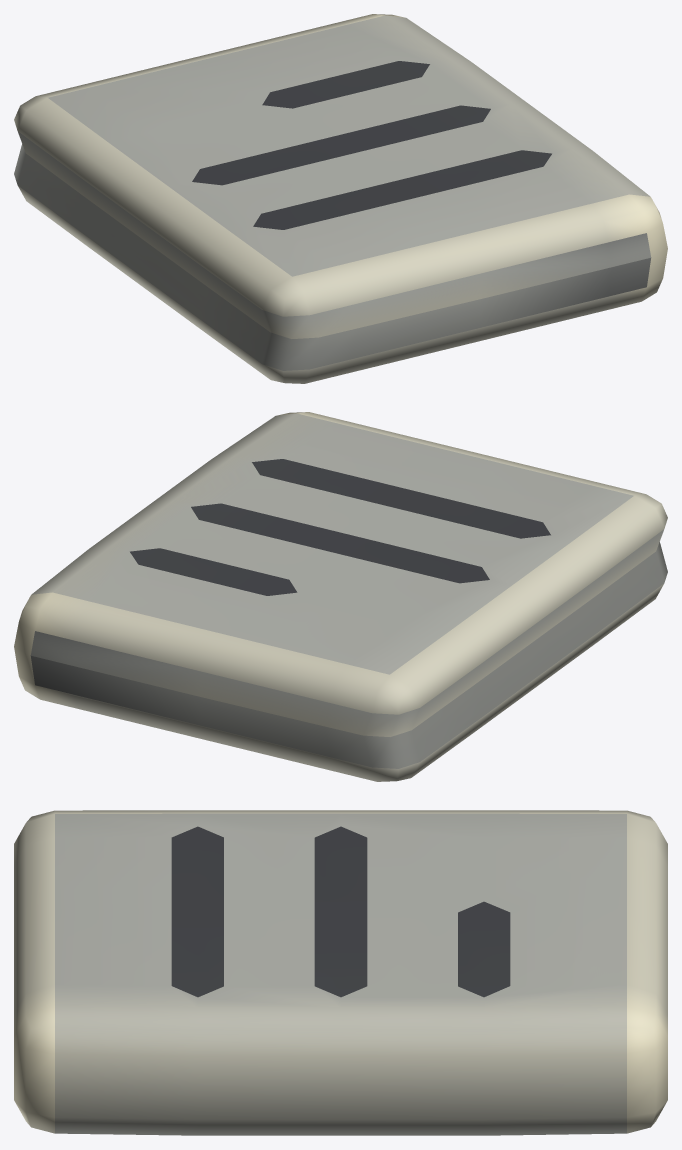
File: newspaper_LOD_setup.fbx
3 renders of one model, top to bottom at view 1: azimuth 30°, elevation 25°; view 2: azimuth 150°, elevation 25°; view 3: azimuth 270°, elevation 25°, orthographic. The views are drawn at different scales.
Parts seen in each view (by area): view 1: newspaper_LOD0; view 2: newspaper_LOD0; view 3: newspaper_LOD0.
Part boxes in pixels (<box>): newspaper_LOD0: <box>14,14,667,383</box>; newspaper_LOD0: <box>14,412,667,781</box>; newspaper_LOD0: <box>14,810,667,1135</box>.
Size of what is drawn, in the model's own units: 67.31 by 16.69 by 80.
